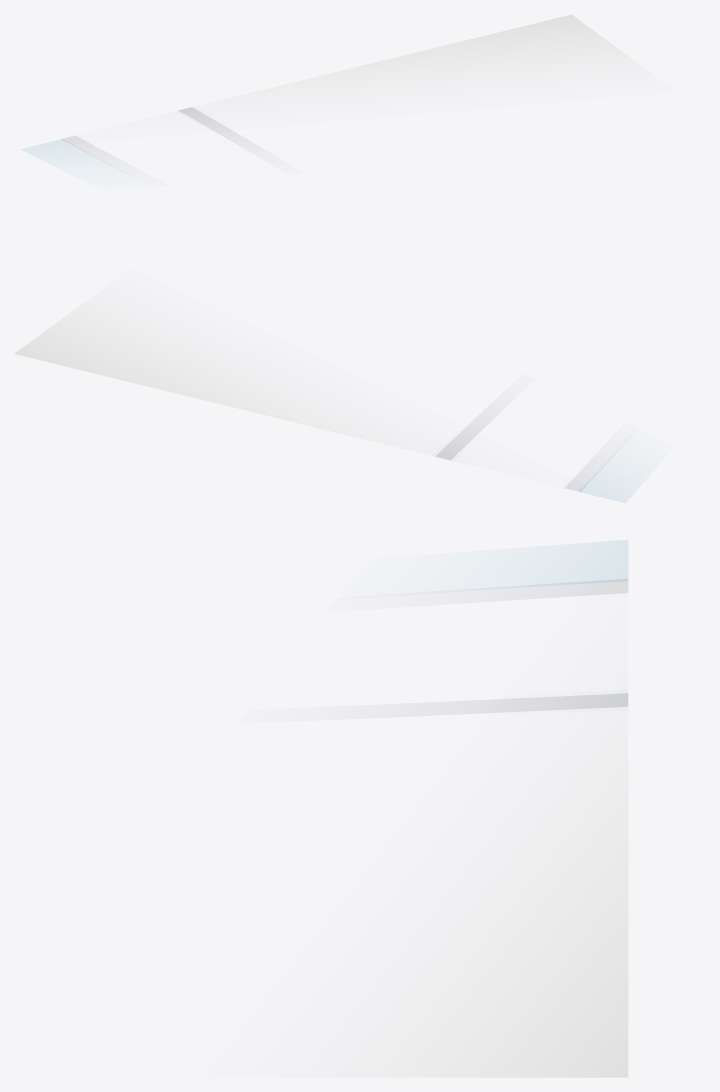
The picture shows the model from 3 angles, top to bottom: view 1: azimuth 30°, elevation 25°; view 2: azimuth 150°, elevation 25°; view 3: azimuth 270°, elevation 25°; orthographic projection. The views are drawn at different scales.
Parts seen in each view (by area): view 1: city; view 2: city; view 3: city.
Boxes of the visible parts, left/top/right/bottom form: city: left=21, top=14, right=636, bottom=168; city: left=14, top=300, right=634, bottom=502; city: left=363, top=540, right=628, bottom=1077.
Size of the model in its own units: 500 by 0.4 by 208.
